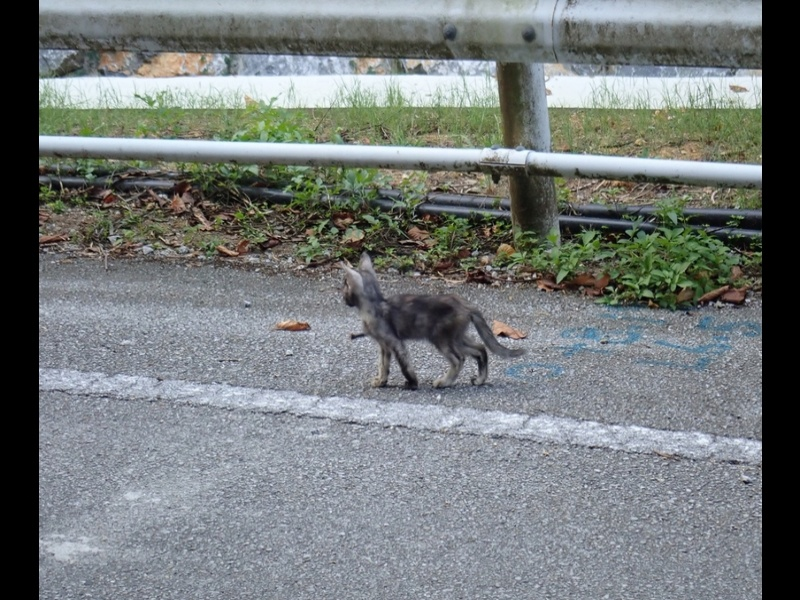cat: (340, 251, 529, 393)
